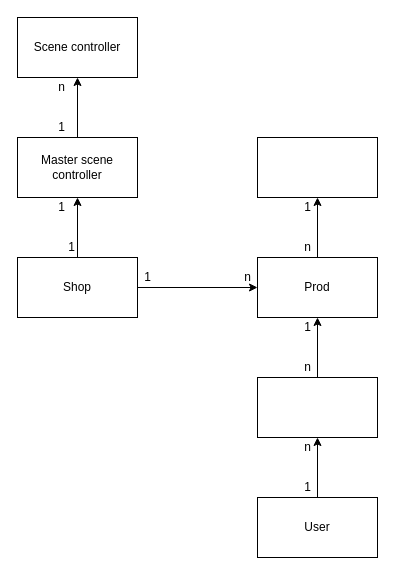
This 395x575 diagram has some shape labels left out. The box of each missing label's shape, as (x1, y1, x2, y2) in pixels:
Category: (256, 136, 378, 198)
Order: (256, 376, 378, 438)
